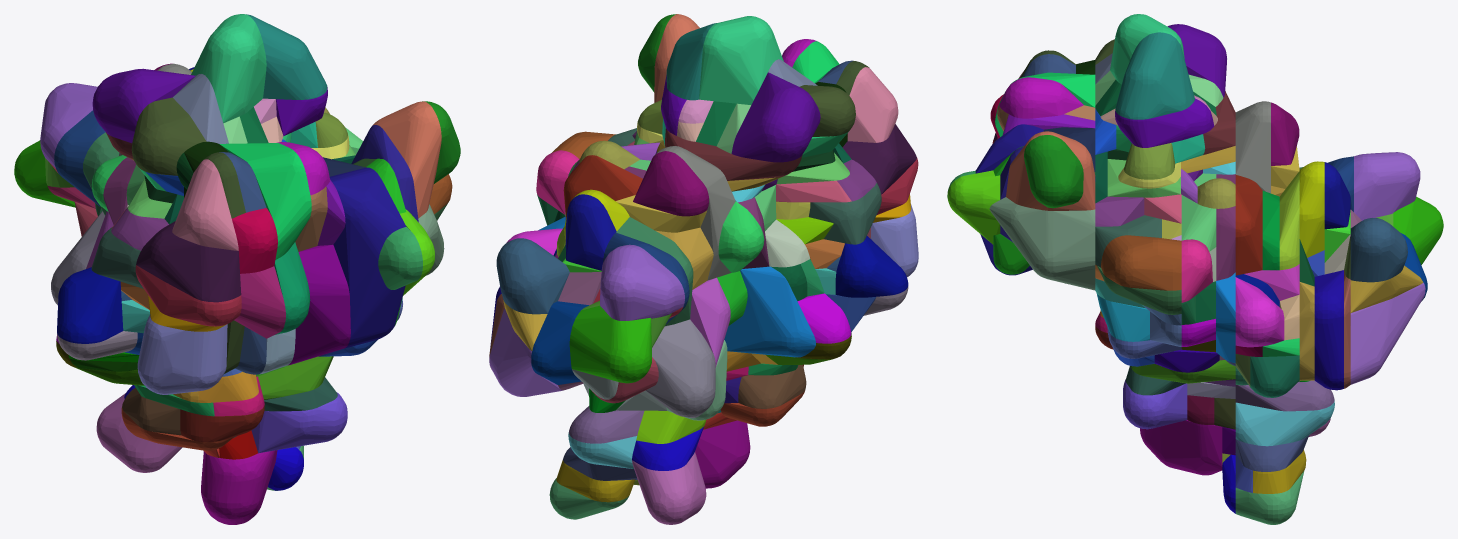
Rendered from vaccine_molecular_optimized.obj.
The picture shows the model from 3 angles, left to right: view 1: azimuth 30°, elevation 25°; view 2: azimuth 150°, elevation 25°; view 3: azimuth 270°, elevation 25°; orthographic projection. The views are drawn at different scales.
Visible parts, largest first — view 1: geometry_20, geometry_12, geometry_61, geometry_26, geometry_11, geometry_23, geometry_14, geometry_68, geometry_27, geometry_63, geometry_9, geometry_24 (+51 smaller); view 2: geometry_29, geometry_61, geometry_27, geometry_110, geometry_46, geometry_45, geometry_105, geometry_89, geometry_7, geometry_68, geometry_104, geometry_40 (+65 smaller); view 3: geometry_0, geometry_60, geometry_40, geometry_67, geometry_46, geometry_8, geometry_14, geometry_102, geometry_105, geometry_2, geometry_35, geometry_91 (+65 smaller).
Boxes of the visible parts, box(x1,y1,x2,y2) form: geometry_20: box(329, 167, 406, 348); geometry_12: box(137, 314, 227, 394); geometry_61: box(191, 14, 266, 123); geometry_26: box(136, 221, 241, 302); geometry_11: box(287, 244, 350, 365); geometry_23: box(219, 143, 311, 259); geometry_14: box(201, 450, 277, 524); geometry_68: box(57, 267, 123, 343); geometry_27: box(92, 68, 195, 143); geometry_63: box(131, 97, 206, 175); geometry_9: box(372, 101, 441, 218); geometry_24: box(172, 159, 238, 250); geometry_29: box(538, 216, 815, 357); geometry_61: box(699, 16, 783, 104); geometry_27: box(731, 72, 820, 162); geometry_110: box(569, 305, 651, 383); geometry_46: box(600, 244, 684, 320); geometry_45: box(645, 319, 715, 417); geometry_105: box(496, 238, 569, 314); geometry_89: box(633, 151, 708, 216); geometry_7: box(632, 452, 706, 524); geometry_68: box(835, 236, 908, 297); geometry_104: box(565, 194, 616, 270); geometry_40: box(489, 308, 563, 396); geometry_0: box(989, 197, 1095, 290); geometry_60: box(1115, 32, 1194, 119); geometry_40: box(1350, 282, 1425, 384); geometry_67: box(1101, 235, 1181, 290); geometry_46: box(1354, 152, 1420, 220); geometry_8: box(1024, 135, 1083, 208); geometry_14: box(1140, 420, 1222, 475); geometry_102: box(1314, 270, 1343, 390); geometry_105: box(1350, 218, 1407, 282); geometry_2: box(1235, 401, 1334, 446); geometry_35: box(1235, 101, 1270, 193); geometry_91: box(1235, 277, 1284, 347).
Size of the model in its own units: 27.71 by 36.11 by 35.57.
